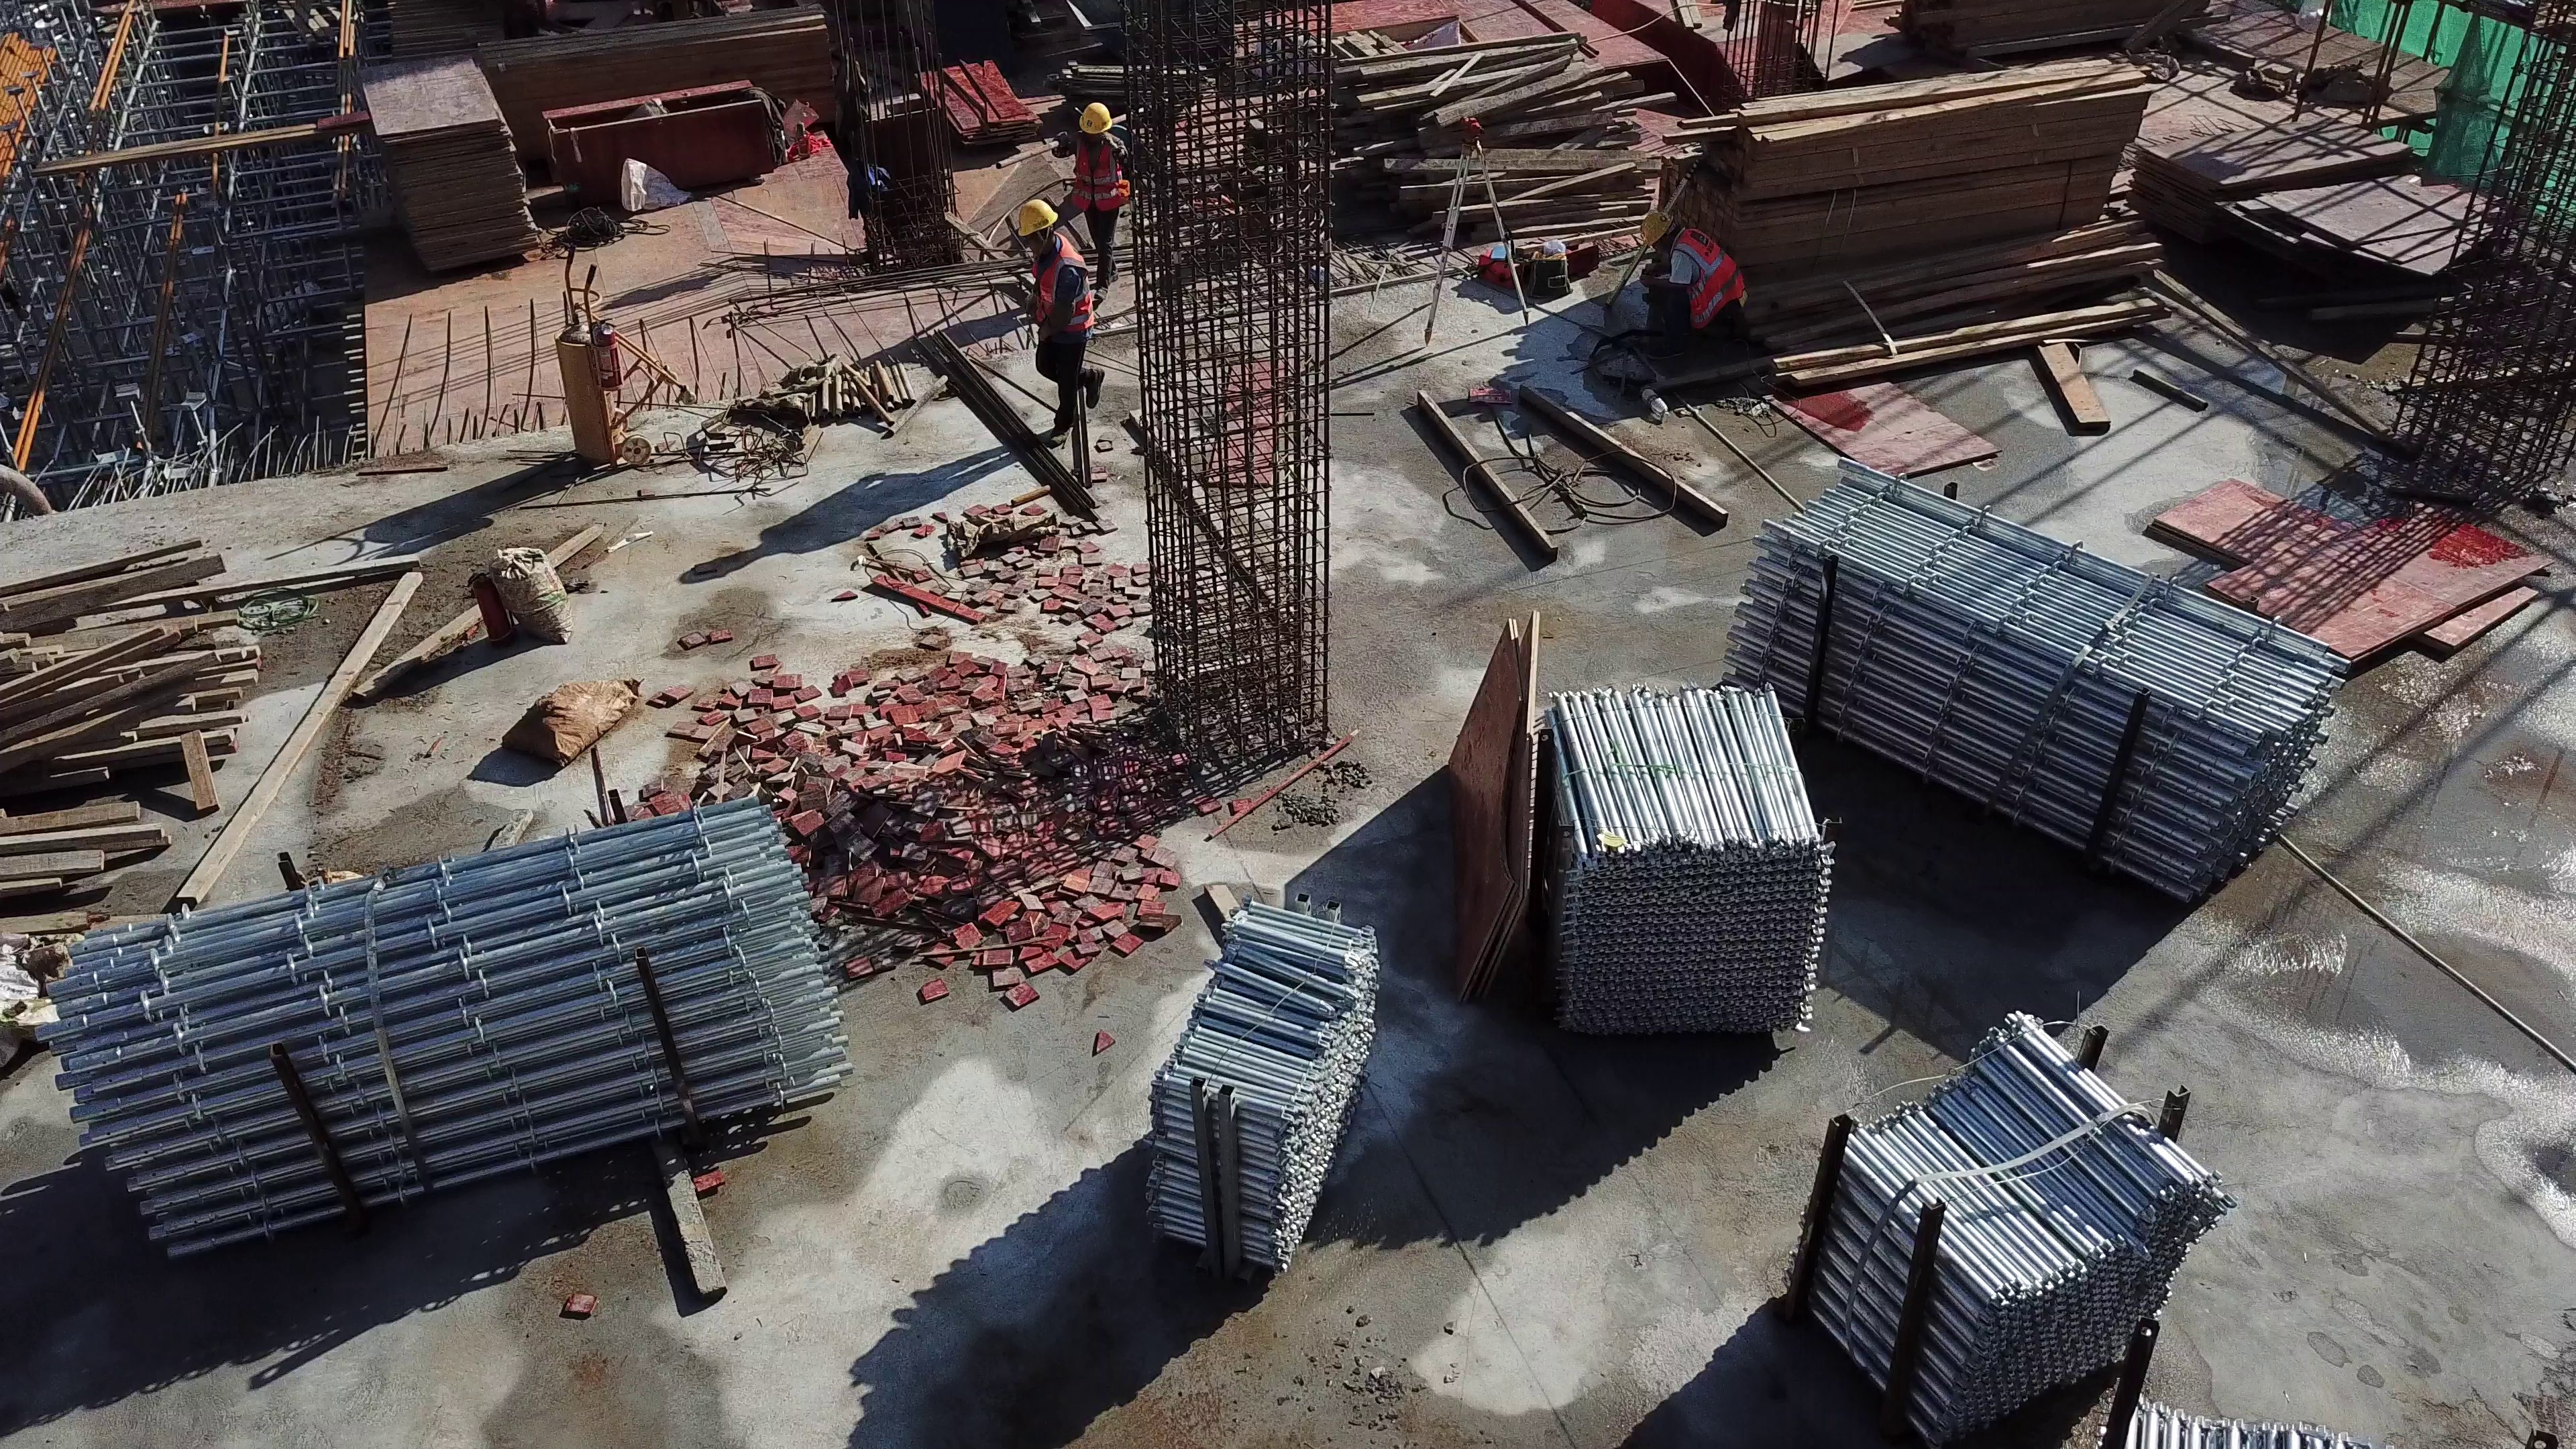board: (364, 70, 540, 271), (925, 64, 1044, 152)
helmet: (1016, 202, 1061, 238), (1078, 101, 1116, 136), (1644, 216, 1672, 250)
person: (1008, 197, 1106, 435), (1642, 215, 1752, 354), (1067, 98, 1133, 283)
scaffold: (54, 800, 855, 1265), (1725, 464, 2326, 900), (1813, 1021, 2220, 1426), (1537, 686, 1815, 1042), (1152, 903, 1373, 1279), (2120, 1392, 2377, 1449)
vest: (1676, 223, 1746, 327), (1033, 241, 1091, 335), (1069, 142, 1120, 210)
wood: (1690, 67, 2165, 253), (496, 32, 843, 91)
